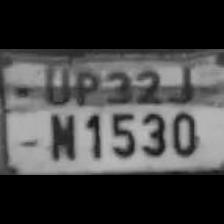0: (166, 107, 200, 157)
1: (78, 107, 106, 161)
2: (132, 65, 162, 105)
3: (136, 108, 166, 160), (99, 65, 135, 107)
5: (104, 108, 138, 160)
J: (166, 57, 196, 103)
N: (44, 108, 78, 162)
P: (69, 64, 101, 108)
U: (38, 57, 74, 105)
